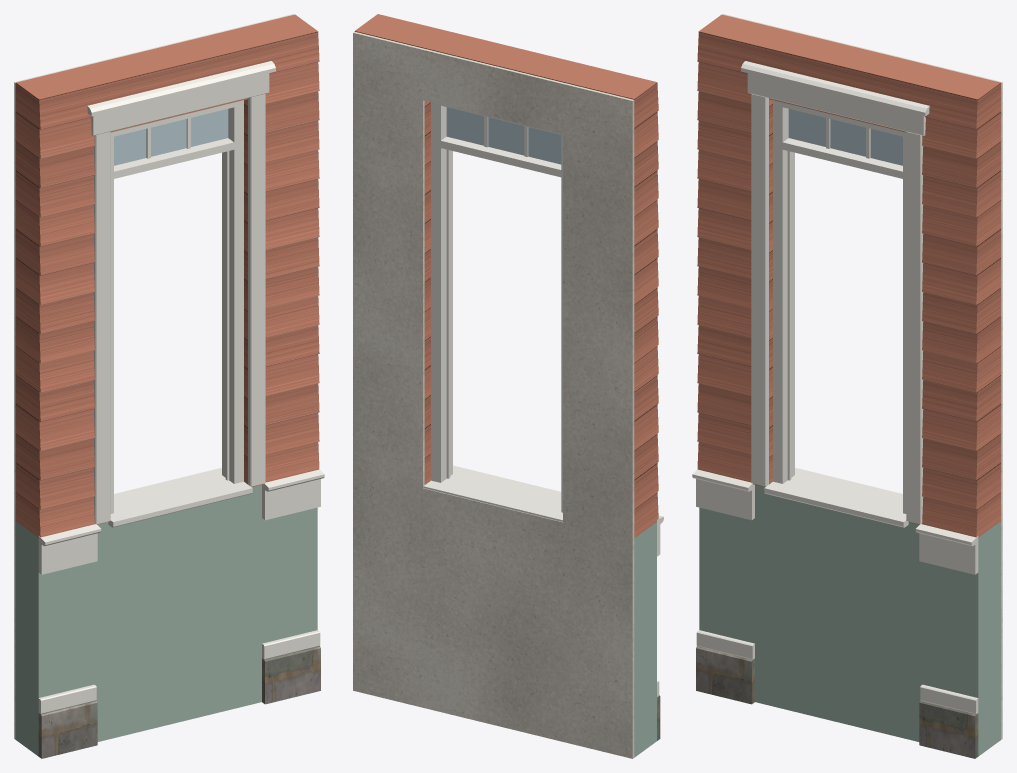
The model's file is b_g_door_e.glb.
The picture shows the model from 3 angles, left to right: view 1: azimuth 30°, elevation 25°; view 2: azimuth 150°, elevation 25°; view 3: azimuth 330°, elevation 25°; orthographic projection.
Parts seen in each view (by area): view 1: b_g_door_e_siding_e, b_g_door_e_acc_e, b_g_door_e_trim, b_g_door_e_frame, b_g_door_e_plinth, b_g_door_e_glass, b_g_door_e_plaster; view 2: b_g_door_e_plaster, b_g_door_e_siding_e, b_g_door_e_frame, b_g_door_e_acc_e, b_g_door_e_trim, b_g_door_e_glass; view 3: b_g_door_e_siding_e, b_g_door_e_acc_e, b_g_door_e_trim, b_g_door_e_frame, b_g_door_e_plinth, b_g_door_e_glass, b_g_door_e_plaster.
Boxes of the visible parts, x1=… form: b_g_door_e_siding_e: x1=16, y1=14, x2=319, y2=537; b_g_door_e_acc_e: x1=16, y1=485, x2=317, y2=756; b_g_door_e_trim: x1=38, y1=61, x2=324, y2=713; b_g_door_e_frame: x1=110, y1=100, x2=243, y2=513; b_g_door_e_plinth: x1=38, y1=646, x2=320, y2=758; b_g_door_e_glass: x1=114, y1=109, x2=228, y2=165; b_g_door_e_plaster: x1=14, y1=14, x2=293, y2=739; b_g_door_e_plaster: x1=353, y1=31, x2=634, y2=758; b_g_door_e_siding_e: x1=354, y1=14, x2=658, y2=537; b_g_door_e_frame: x1=431, y1=102, x2=562, y2=512; b_g_door_e_acc_e: x1=634, y1=522, x2=656, y2=757; b_g_door_e_trim: x1=423, y1=465, x2=663, y2=696; b_g_door_e_glass: x1=446, y1=107, x2=561, y2=164; b_g_door_e_siding_e: x1=697, y1=14, x2=1000, y2=537; b_g_door_e_acc_e: x1=699, y1=485, x2=1000, y2=756; b_g_door_e_trim: x1=692, y1=61, x2=978, y2=713; b_g_door_e_frame: x1=773, y1=100, x2=906, y2=513; b_g_door_e_plinth: x1=696, y1=646, x2=978, y2=758; b_g_door_e_glass: x1=788, y1=109, x2=902, y2=165; b_g_door_e_plaster: x1=723, y1=14, x2=1002, y2=739.
Bounding box in the file's own units: 2 × 4.5 × 0.385.
7 materials, 3 textured.
